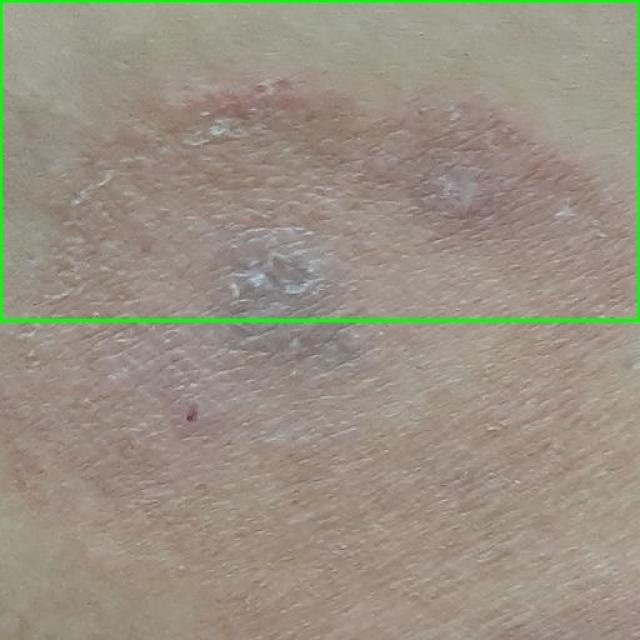Tinea Corporis: (0, 0, 639, 320)
